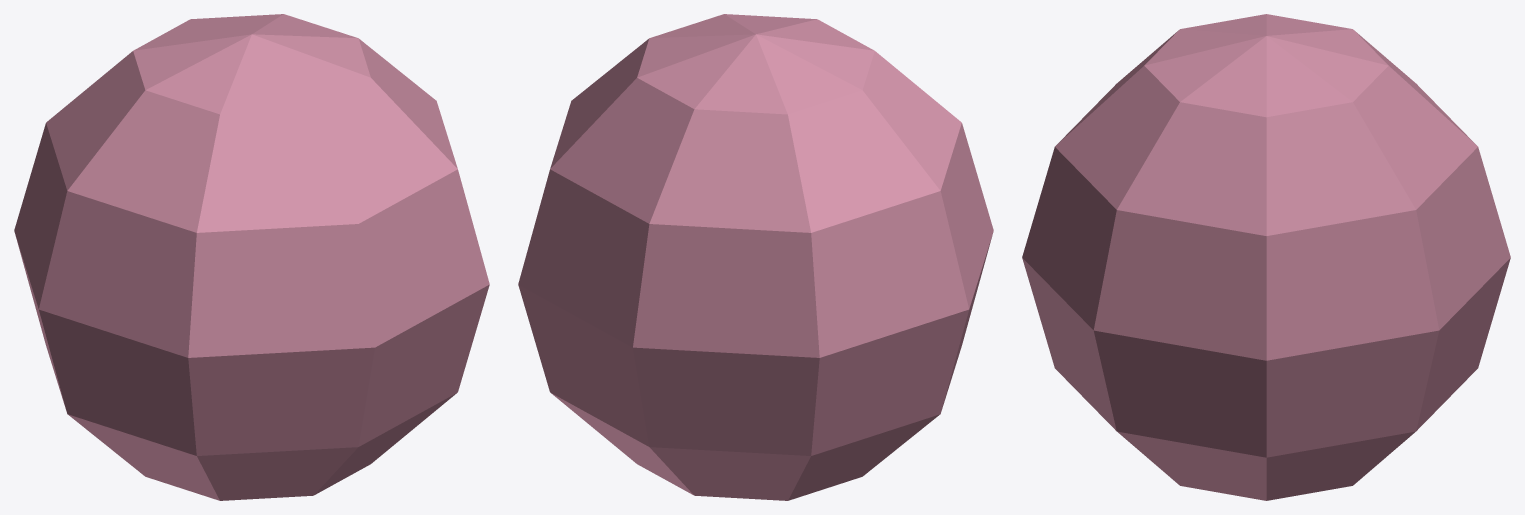
File: sphere_flower_pink.gltf
The picture shows the model from 3 angles, left to right: view 1: azimuth 30°, elevation 25°; view 2: azimuth 150°, elevation 25°; view 3: azimuth 270°, elevation 25°; orthographic projection.
Parts seen in each view (by area): view 1: mesh; view 2: mesh; view 3: mesh.
Boxes of the visible parts, x1,y1,x2,y2 form: mesh: [14, 14, 489, 500]; mesh: [518, 14, 993, 500]; mesh: [1022, 14, 1510, 500].
Bounding box in the file's own units: 0.26 × 0.26 × 0.26.
